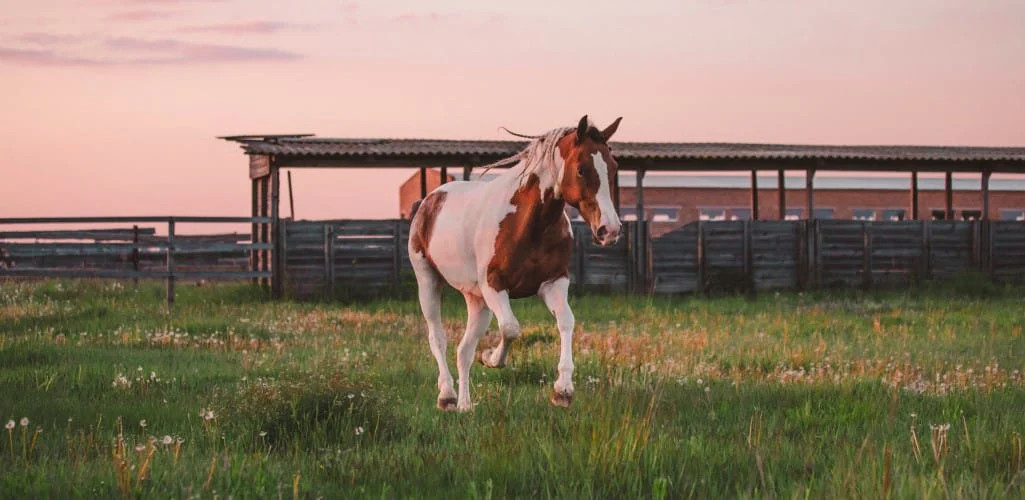horse: (406, 111, 627, 417)
